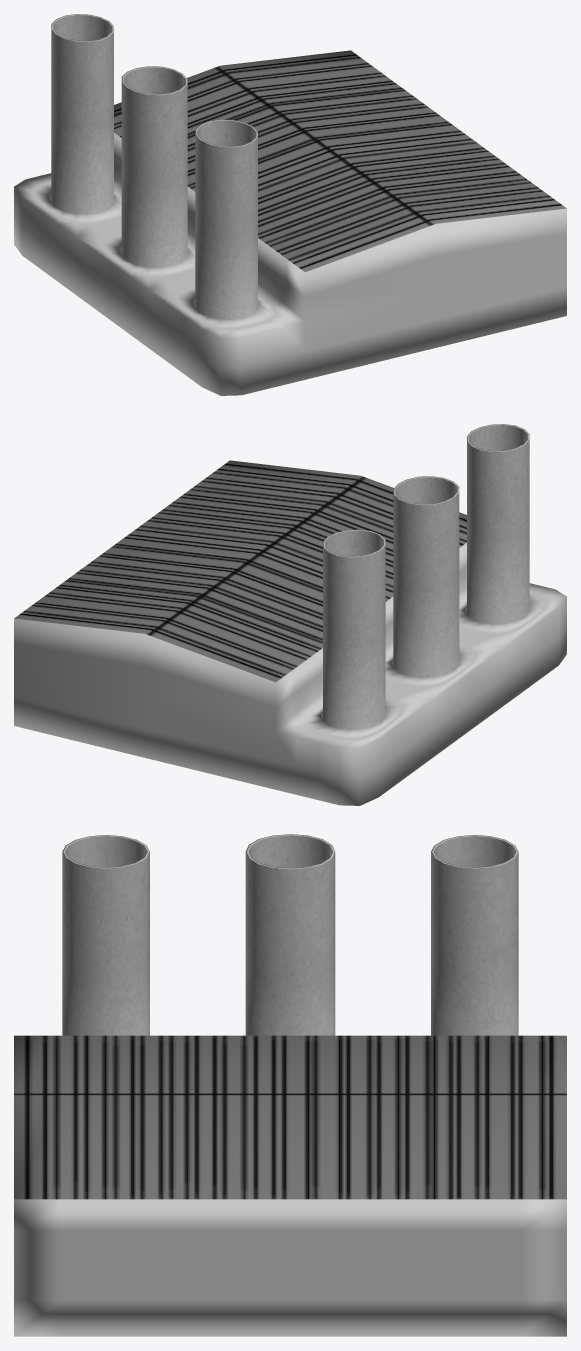
File: Factory2.fbx
The picture shows the model from 3 angles, top to bottom: view 1: azimuth 30°, elevation 25°; view 2: azimuth 150°, elevation 25°; view 3: azimuth 270°, elevation 25°; orthographic projection. The views are drawn at different scales.
Parts seen in each view (by area): view 1: pCube1; view 2: pCube1; view 3: pCube1.
Boxes of the visible parts, left/top/right/bottom form: pCube1: left=14, top=14, right=566, bottom=395; pCube1: left=14, top=424, right=566, bottom=805; pCube1: left=14, top=834, right=566, bottom=1336.
Bounding box in the file's own units: 11.2 × 7.11 × 12.09.
